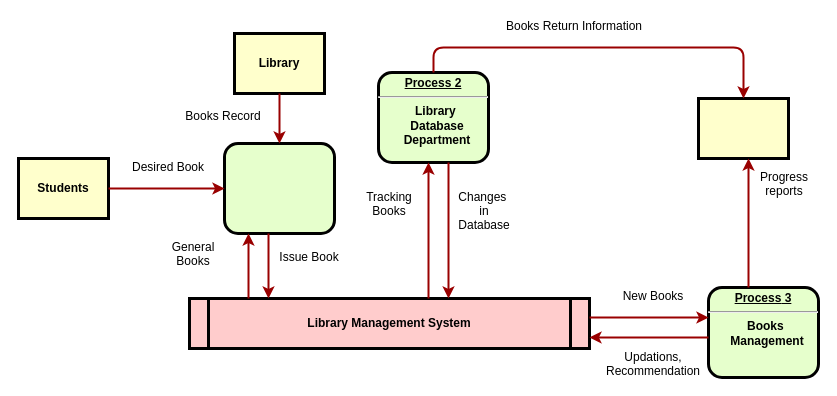
The diagram is 837 pixels wide and 396 high, and some of its shapes have lost their labels. Here are the shapes that lost their labels. From the top down, the centre of each, then its label:
At pixel 743 128: "Database Management".
At pixel 279 188: "Process 1 Books Issuing Department".
